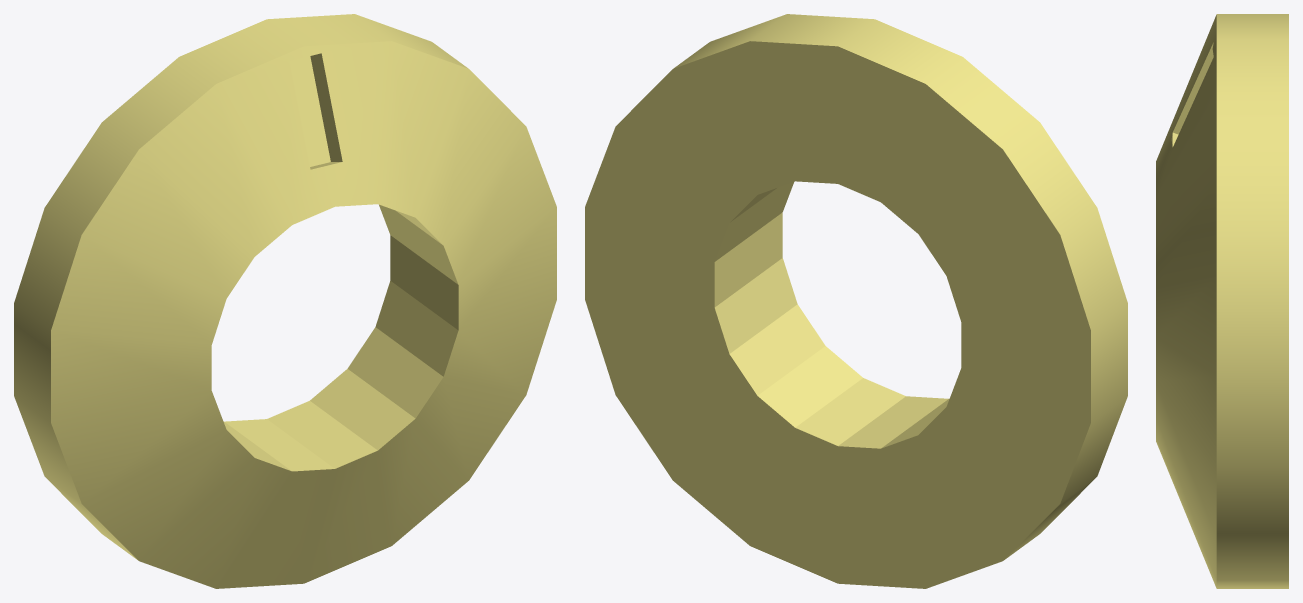
File: original-37.obj
The picture shows the model from 3 angles, left to right: view 1: azimuth 30°, elevation 25°; view 2: azimuth 150°, elevation 25°; view 3: azimuth 270°, elevation 25°; orthographic projection. The views are drawn at different scales.
Visible parts, largest first — view 1: Group_1/mesh134/mesh134-geometry#mesh134-geometry; view 2: Group_1/mesh134/mesh134-geometry#mesh134-geometry; view 3: Group_1/mesh134/mesh134-geometry#mesh134-geometry.
Part boxes in pixels (bbox=[...]): Group_1/mesh134/mesh134-geometry#mesh134-geometry: bbox=[14, 14, 556, 588]; Group_1/mesh134/mesh134-geometry#mesh134-geometry: bbox=[585, 14, 1127, 588]; Group_1/mesh134/mesh134-geometry#mesh134-geometry: bbox=[1156, 14, 1288, 588].
Bounding box in the file's own units: 0.0928 × 0.0943 × 0.0217.
